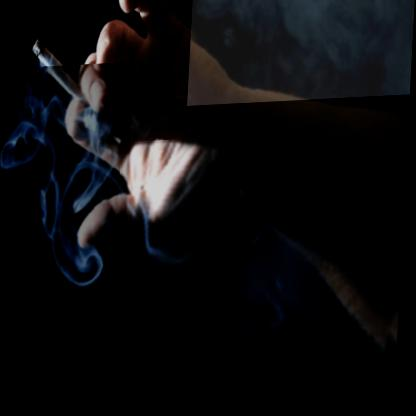smoke: (198, 156, 409, 407), (0, 63, 135, 301), (113, 140, 216, 390), (188, 0, 416, 108)
